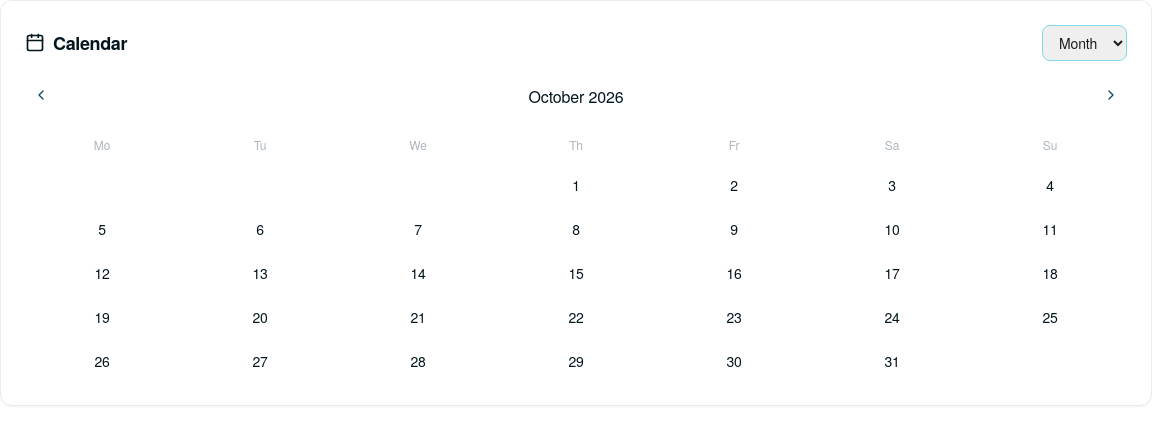
Test: DashboardCalendar › switches to week view
The image size is (1152, 423).
Select "Week" in the dropdown showing "Month". click: [1084, 43]
box: left=1042, top=25, right=1127, bottom=61
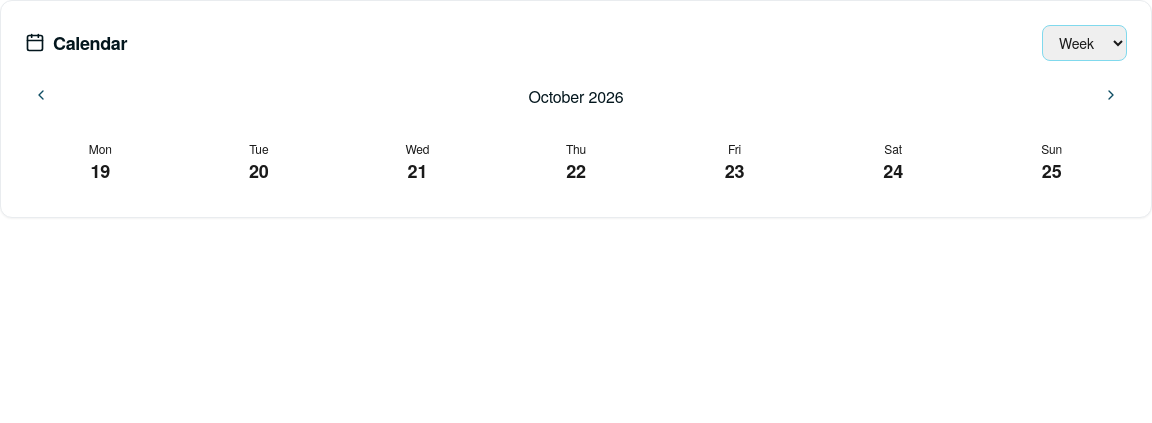
Now the text "Mon" is shown, box left=89, top=140, right=112, bottom=157
